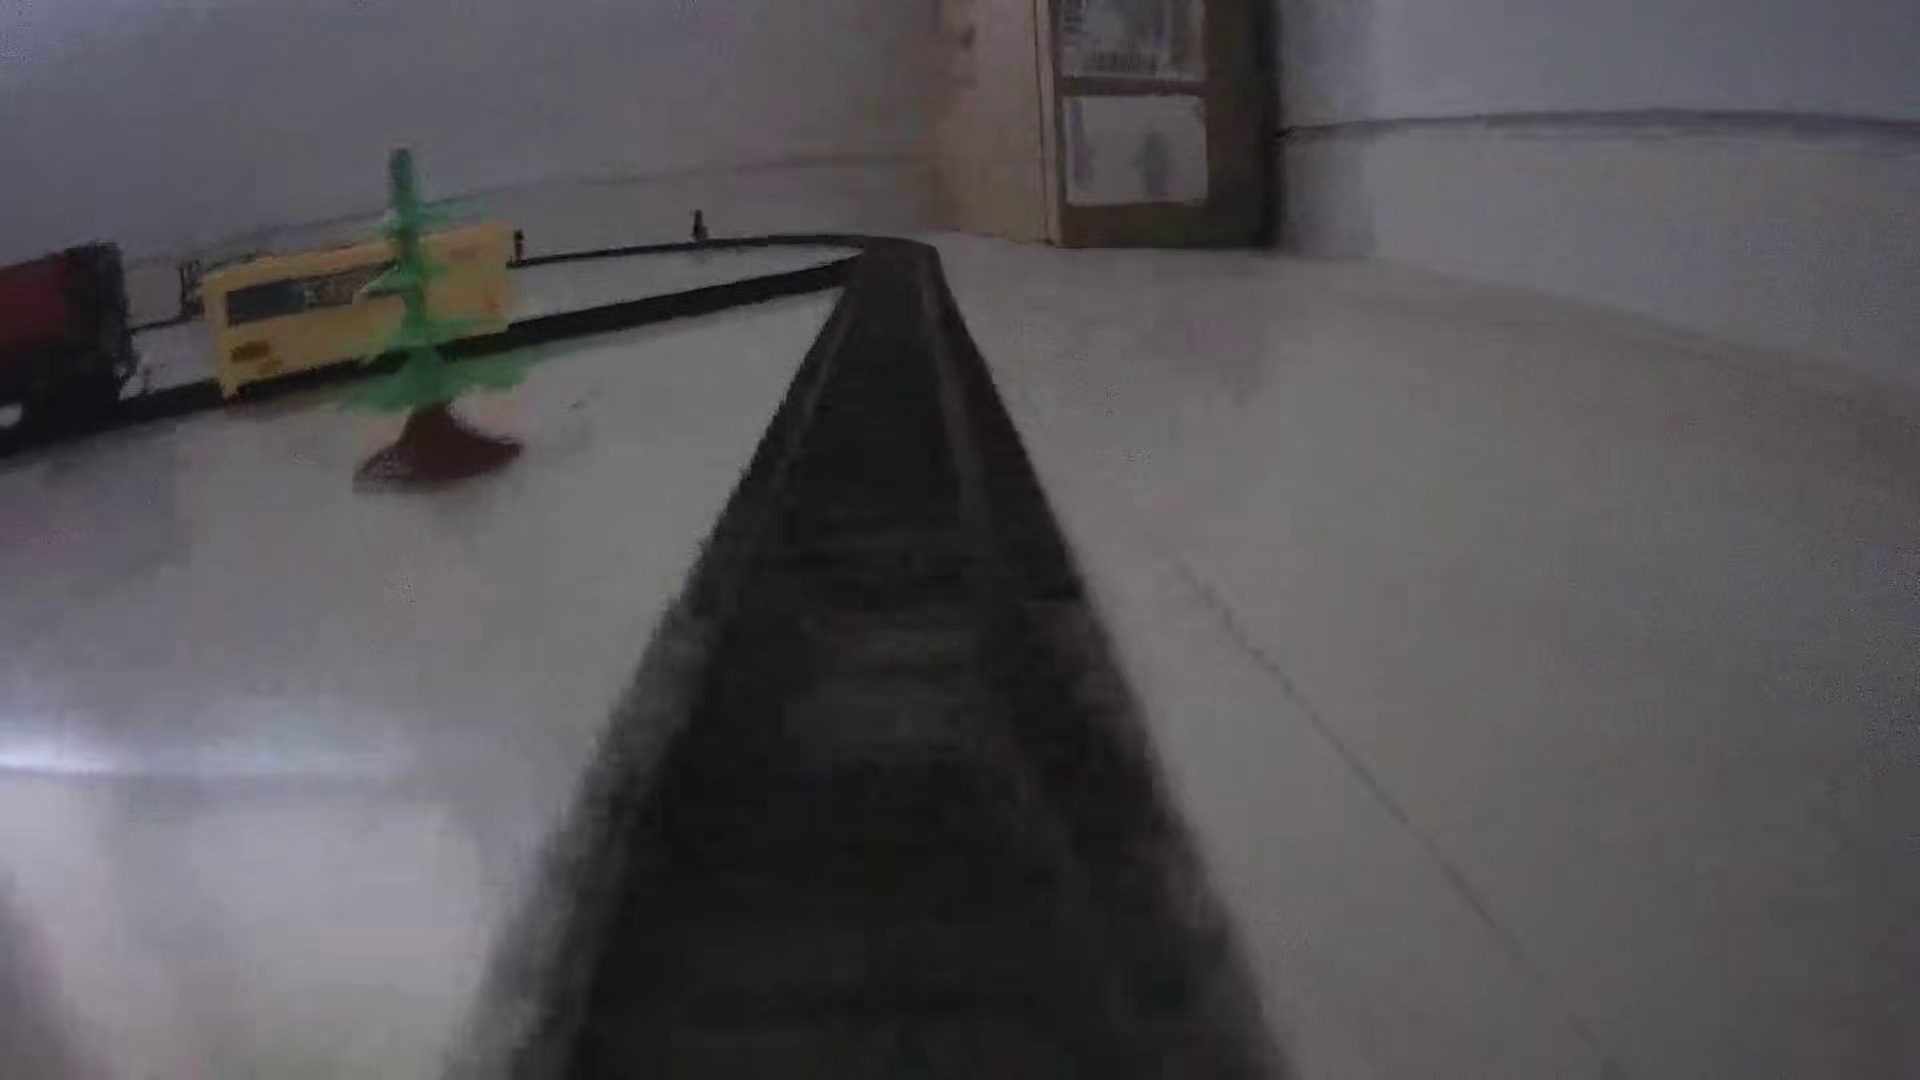tree: (346, 140, 530, 492)
